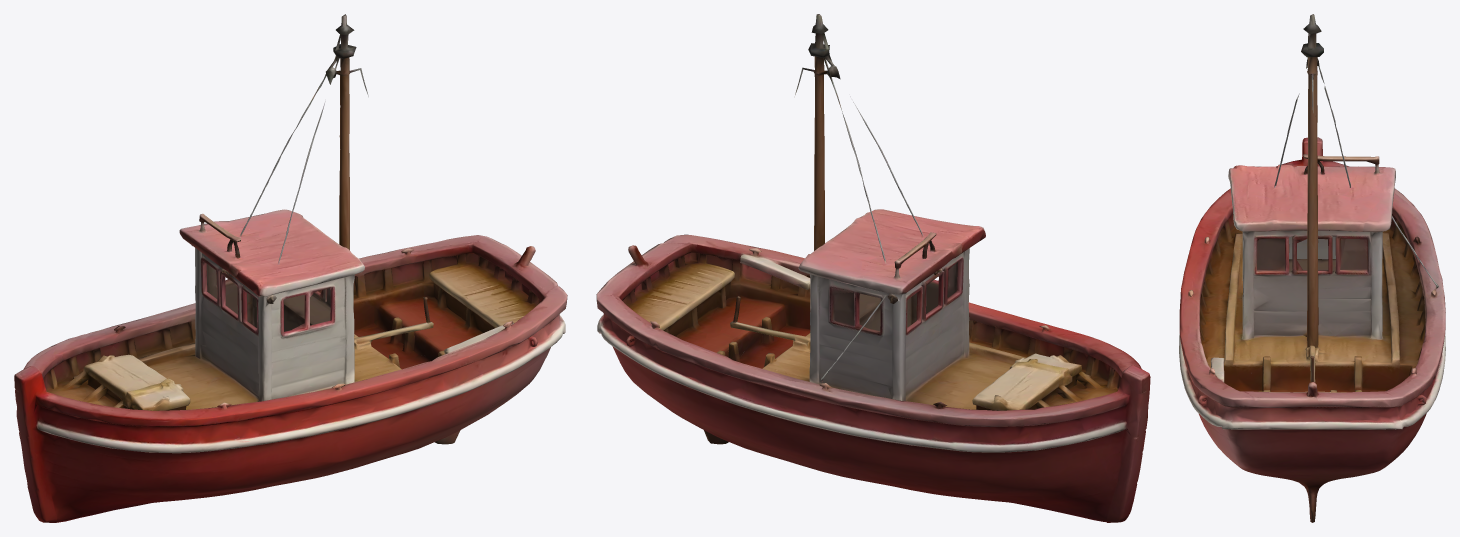
File: boat.glb
The picture shows the model from 3 angles, left to right: view 1: azimuth 30°, elevation 25°; view 2: azimuth 150°, elevation 25°; view 3: azimuth 270°, elevation 25°; orthographic projection.
Parts seen in each view (by area): view 1: tripo_node_e8404737-7813-4971-a8e1-ae9cd2b43de3; view 2: tripo_node_e8404737-7813-4971-a8e1-ae9cd2b43de3; view 3: tripo_node_e8404737-7813-4971-a8e1-ae9cd2b43de3.
Boxes of the visible parts, bbox=[...] form: tripo_node_e8404737-7813-4971-a8e1-ae9cd2b43de3: bbox=[14, 14, 567, 522]; tripo_node_e8404737-7813-4971-a8e1-ae9cd2b43de3: bbox=[596, 14, 1150, 522]; tripo_node_e8404737-7813-4971-a8e1-ae9cd2b43de3: bbox=[1179, 14, 1445, 522].
Size of the model in its own units: 1 by 0.8394 by 0.4449.
1 material, 1 textured.
